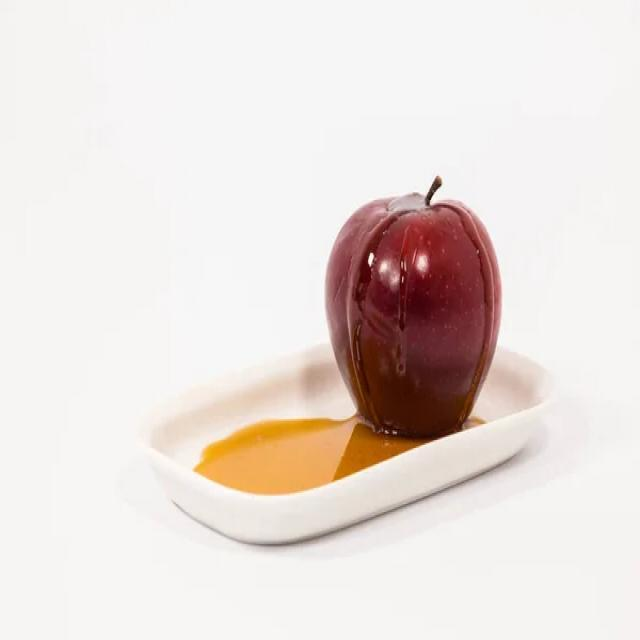Fresh Apple: (312, 183, 510, 447)
